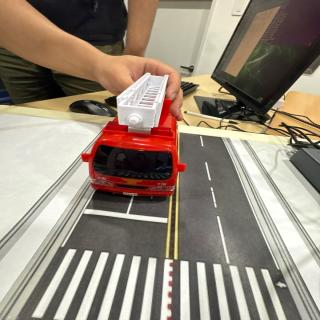Fire_truck: (82, 73, 185, 196)
